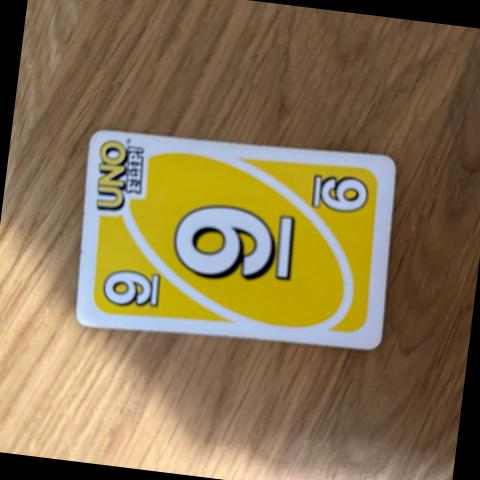draw2_red: (173, 200, 305, 286), (311, 165, 377, 214), (99, 268, 159, 310)
